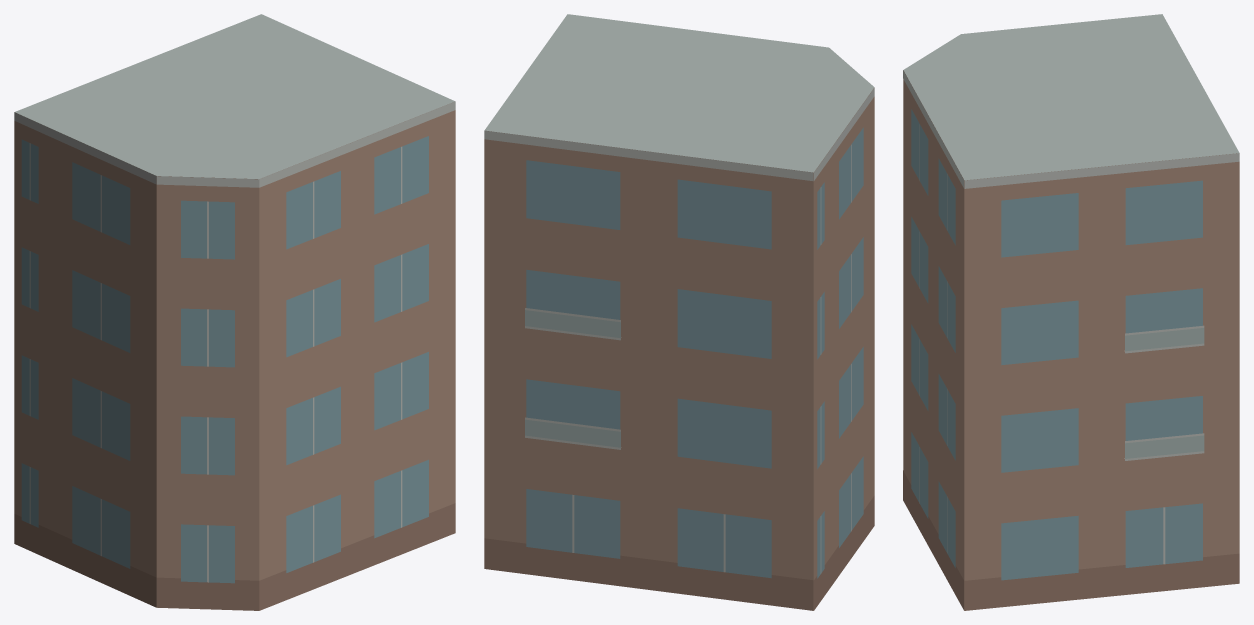
Rendered from residential-0aa2ea8c-0cdd-4a92-8116-3de5eceb458c.glb.
3 views of the same model, side by side, from view 1: azimuth 30°, elevation 25°; view 2: azimuth 150°, elevation 25°; view 3: azimuth 270°, elevation 25° (orthographic).
Parts seen in each view (by area): view 1: residential-0aa2ea8c-0cdd-4a92-8116-3de5eceb458c.tmp; view 2: residential-0aa2ea8c-0cdd-4a92-8116-3de5eceb458c.tmp; view 3: residential-0aa2ea8c-0cdd-4a92-8116-3de5eceb458c.tmp.
Part boxes in pixels (x1=…): residential-0aa2ea8c-0cdd-4a92-8116-3de5eceb458c.tmp: x1=14, y1=14, x2=455, y2=610; residential-0aa2ea8c-0cdd-4a92-8116-3de5eceb458c.tmp: x1=484, y1=14, x2=874, y2=610; residential-0aa2ea8c-0cdd-4a92-8116-3de5eceb458c.tmp: x1=903, y1=14, x2=1239, y2=610.
Size of the model in its own units: 10.12 by 12.2 by 8.65.
